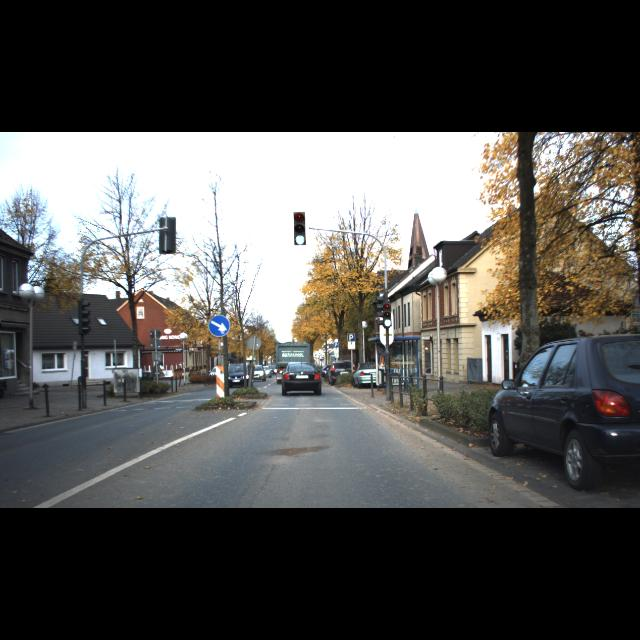mandatory: (208, 315, 230, 337)
